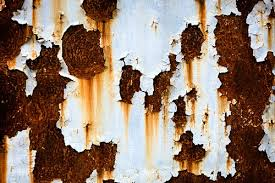rust: (18, 43, 115, 183), (214, 10, 275, 180), (1, 2, 30, 140), (58, 18, 109, 80), (143, 45, 177, 115), (172, 22, 210, 65), (171, 129, 214, 165), (117, 55, 142, 107), (77, 1, 127, 24), (168, 94, 198, 127), (167, 168, 210, 183)
